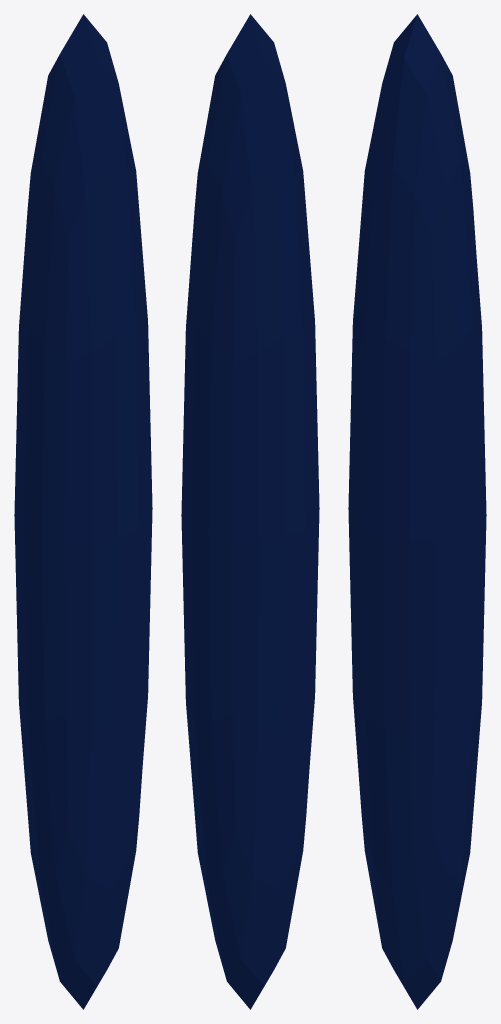
File: FloatingPillar.glb
3 renders of one model, left to right at view 1: azimuth 30°, elevation 25°; view 2: azimuth 210°, elevation 25°; view 3: azimuth 330°, elevation 25°, orthographic.
Visible parts, largest first — view 1: floating_pillar; view 2: floating_pillar; view 3: floating_pillar.
Part boxes in pixels (bbox=[...]): floating_pillar: bbox=[14, 14, 152, 1009]; floating_pillar: bbox=[181, 14, 319, 1009]; floating_pillar: bbox=[348, 14, 486, 1009].
Size of what is drawn, in the model's own units: 0.4198 by 3.36 by 0.4198.
1 material, 1 textured.
